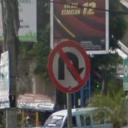NoVirarU: (48, 41, 90, 91)
